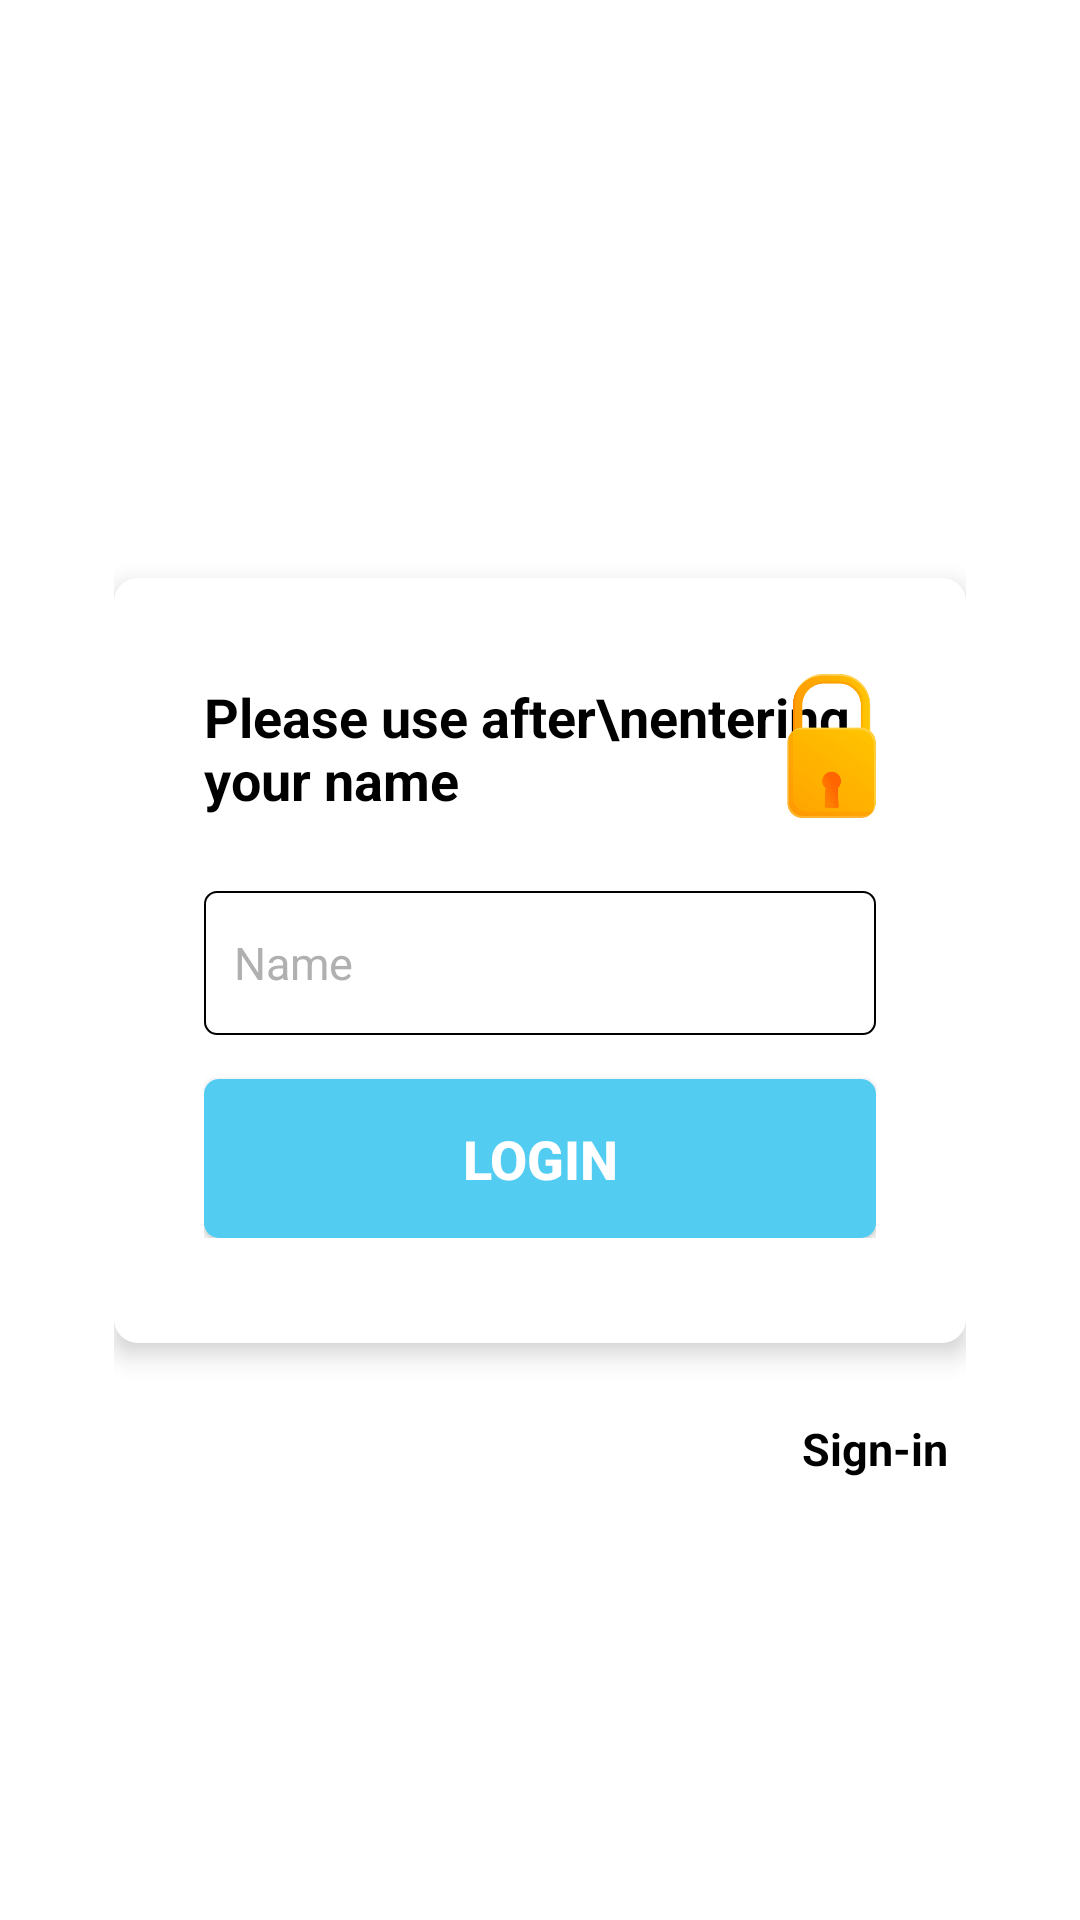

Where icons sit on this 1080*1920 app screen, as (x1, y1, x2, y2):
login lock: (787, 674, 876, 818)
